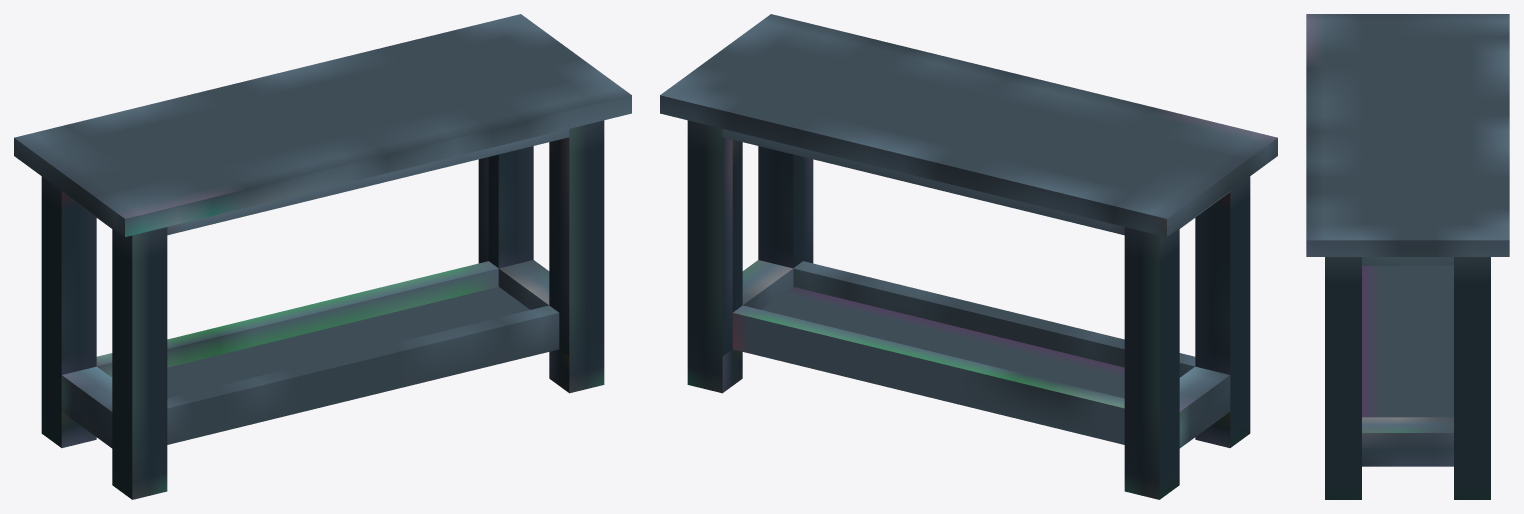
File: Table_00.fbx
3 renders of one model, left to right at view 1: azimuth 30°, elevation 25°; view 2: azimuth 150°, elevation 25°; view 3: azimuth 270°, elevation 25°, orthographic. The views are drawn at different scales.
Parts seen in each view (by area): view 1: Table_00; view 2: Table_00; view 3: Table_00.
Boxes of the visible parts, x1,y1,x2,y2 form: Table_00: [14, 14, 631, 499]; Table_00: [660, 14, 1277, 499]; Table_00: [1306, 14, 1509, 499].
Bounding box in the file's own units: 145 × 80 × 55.
